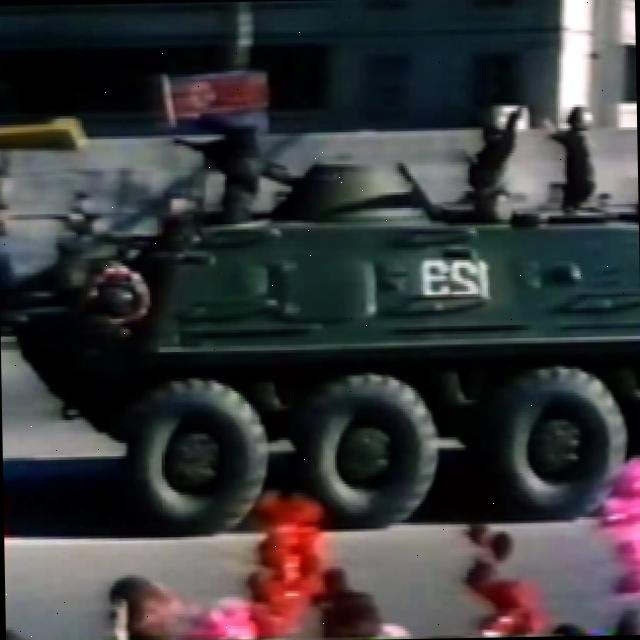north tank: (7, 95, 640, 529)
